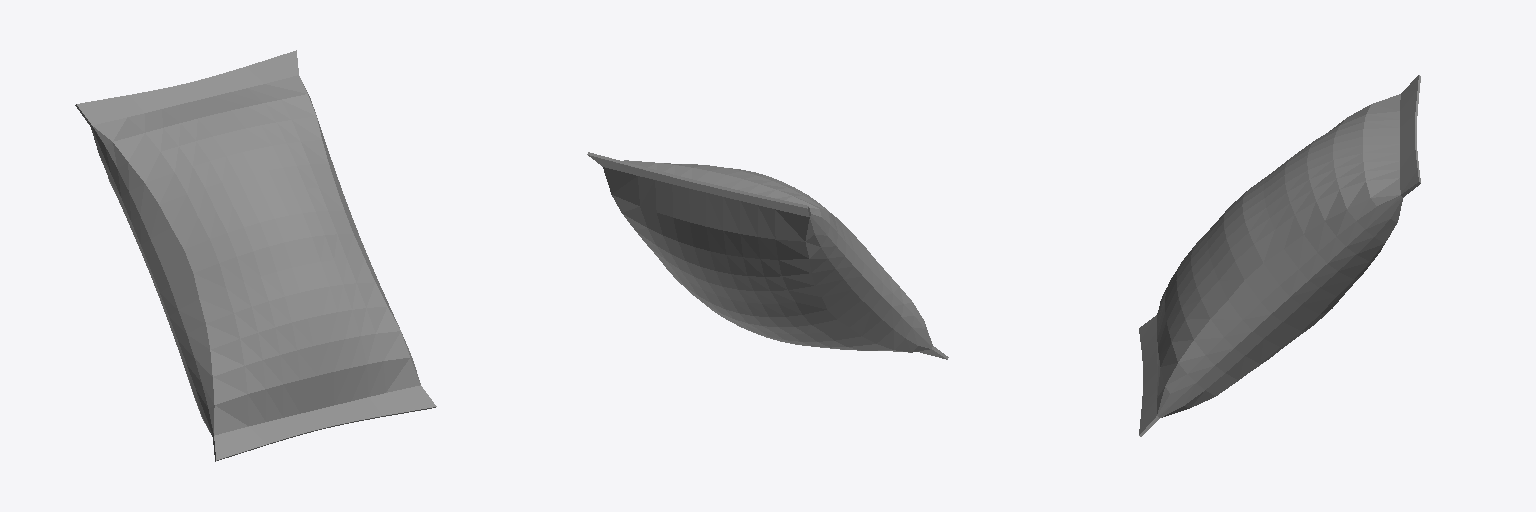
Rendered from Patatas.obj.
3 views of the same model, side by side, from view 1: azimuth 30°, elevation 25°; view 2: azimuth 150°, elevation 25°; view 3: azimuth 270°, elevation 25° (orthographic).
Parts seen in each view (by area): view 1: Patatas; view 2: Patatas; view 3: Patatas.
Part boxes in pixels (x1,y1,x2,y2): Patatas: (75, 50, 436, 461); Patatas: (587, 152, 948, 359); Patatas: (1139, 75, 1420, 436).
Bounding box in the file's own units: 1.55 × 1.72 × 1.72.